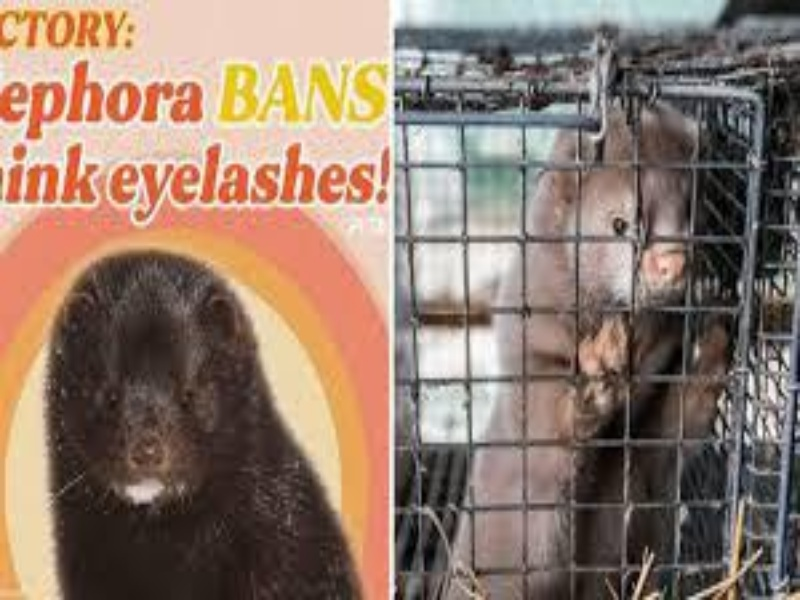minkish: (448, 108, 737, 589), (42, 248, 362, 594)
